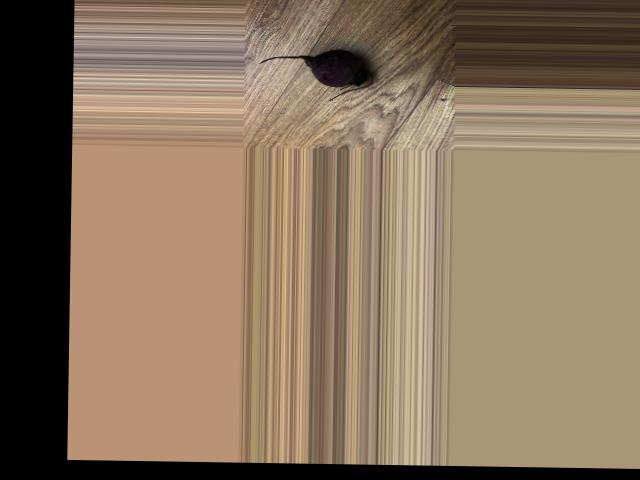beet: (258, 47, 373, 100)
